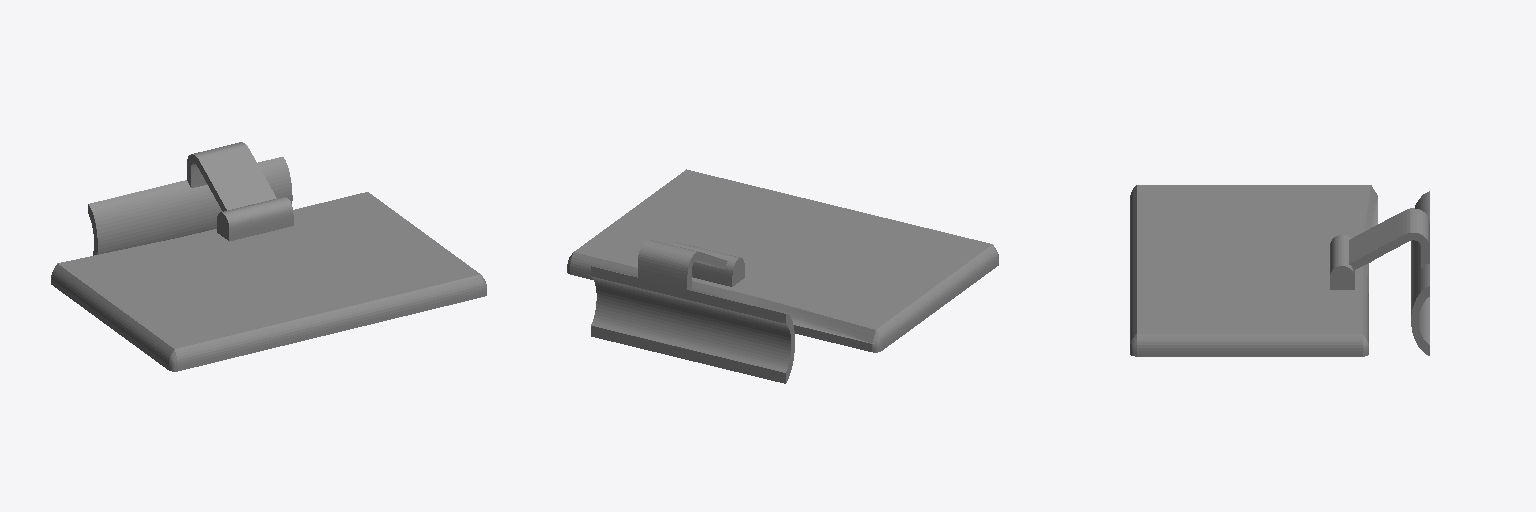
Rendered from lcd.obj.
The picture shows the model from 3 angles: view 1: azimuth 30°, elevation 25°; view 2: azimuth 150°, elevation 25°; view 3: azimuth 270°, elevation 25°; orthographic projection.
Visible parts, largest first — view 1: 10120_LCD_Computer_Monitor_v01; view 2: 10120_LCD_Computer_Monitor_v01; view 3: 10120_LCD_Computer_Monitor_v01.
Part boxes in pixels (left/top/right/bottom): 10120_LCD_Computer_Monitor_v01: left=51, top=142, right=486, bottom=371; 10120_LCD_Computer_Monitor_v01: left=567, top=169, right=998, bottom=383; 10120_LCD_Computer_Monitor_v01: left=1130, top=185, right=1429, bottom=356.
Size of the model in its own units: 43.9 by 13.3 by 35.9.